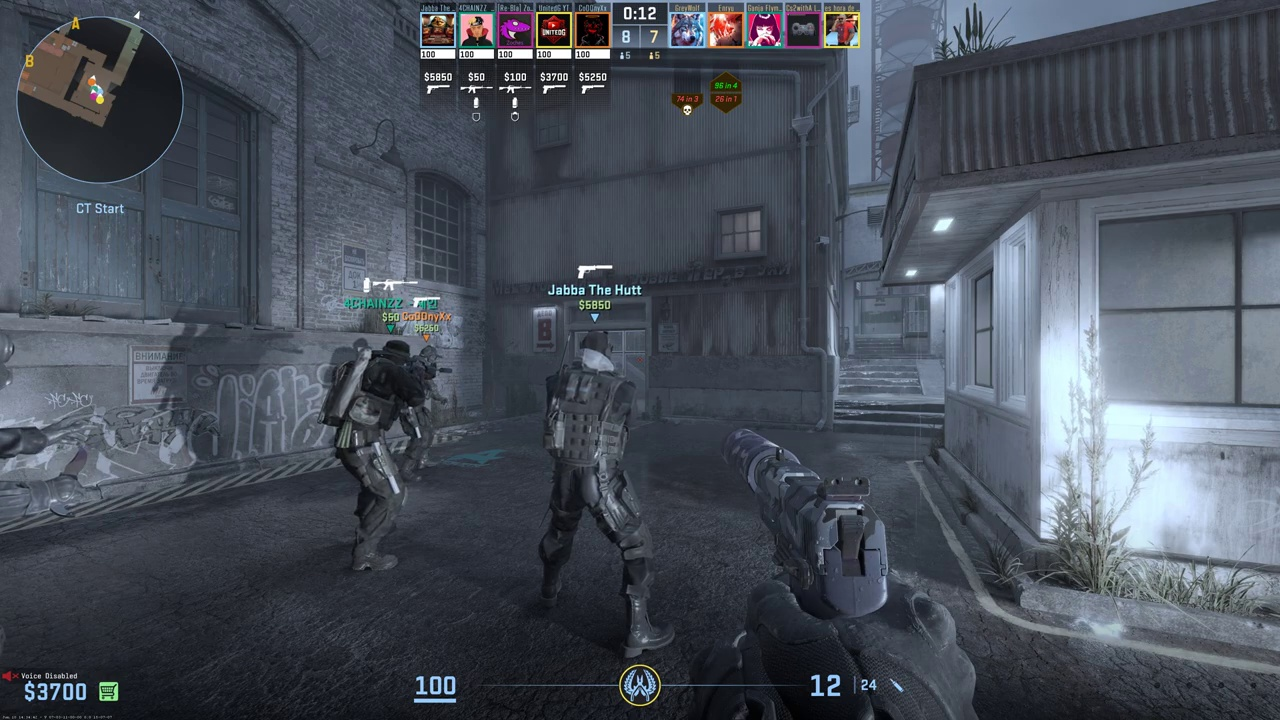CT: (536, 331, 643, 618), (331, 340, 426, 568), (404, 345, 440, 479)
